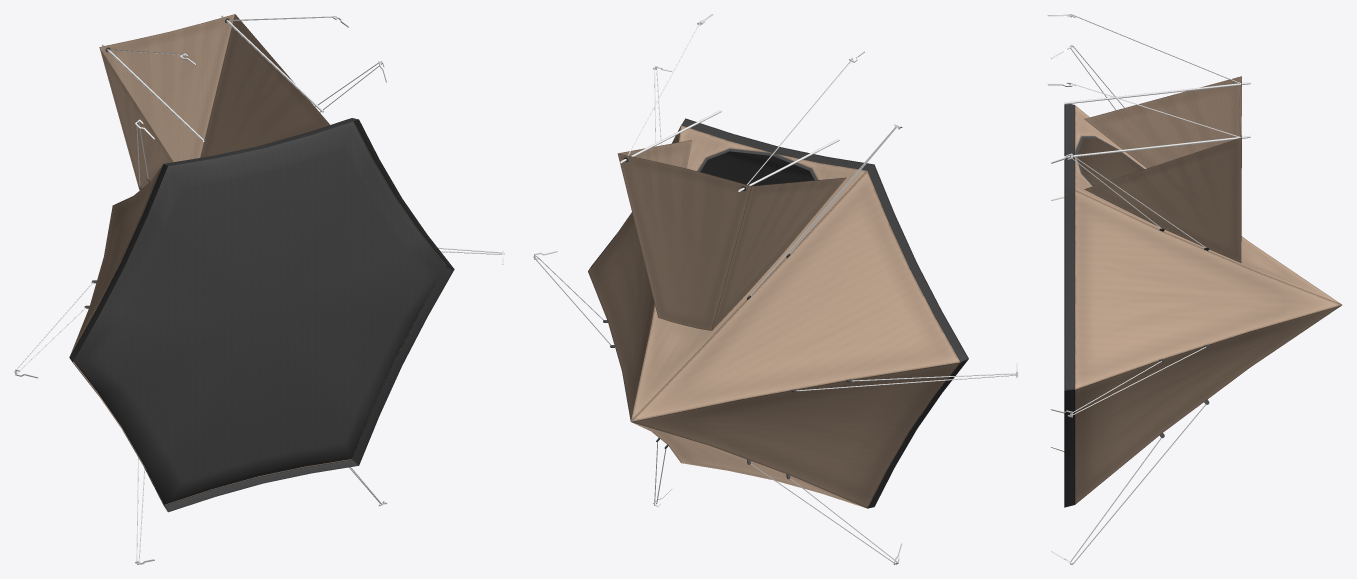
The model's file is Tent.fbx.
The picture shows the model from 3 angles, left to right: view 1: azimuth 30°, elevation 25°; view 2: azimuth 150°, elevation 25°; view 3: azimuth 270°, elevation 25°; orthographic projection. The views are drawn at different scales.
Parts seen in each view (by area): view 1: Seat, Tarp, Tent, Peg; view 2: Tent, Tarp, Peg, Seat; view 3: Tent, Tarp, Peg.
Part boxes in pixels (bbox=[...]): Seat: bbox=[73, 121, 445, 504]; Tarp: bbox=[99, 14, 349, 190]; Tent: bbox=[69, 118, 454, 512]; Peg: bbox=[14, 61, 504, 564]; Tent: bbox=[588, 118, 968, 508]; Tarp: bbox=[617, 14, 864, 330]; Peg: bbox=[533, 66, 1018, 564]; Seat: bbox=[700, 151, 814, 185]; Tent: bbox=[1064, 104, 1342, 507]; Tarp: bbox=[1047, 14, 1250, 262]; Peg: bbox=[1051, 45, 1209, 564].
Size of the model in its own units: 4.88 by 4.76 by 2.76.
